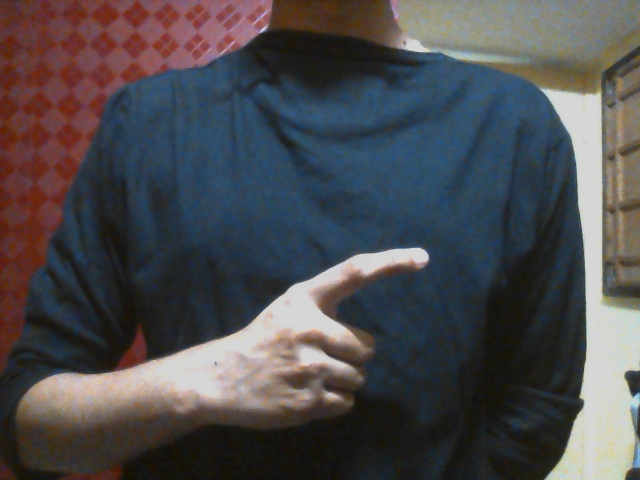I: (231, 246, 430, 429)
